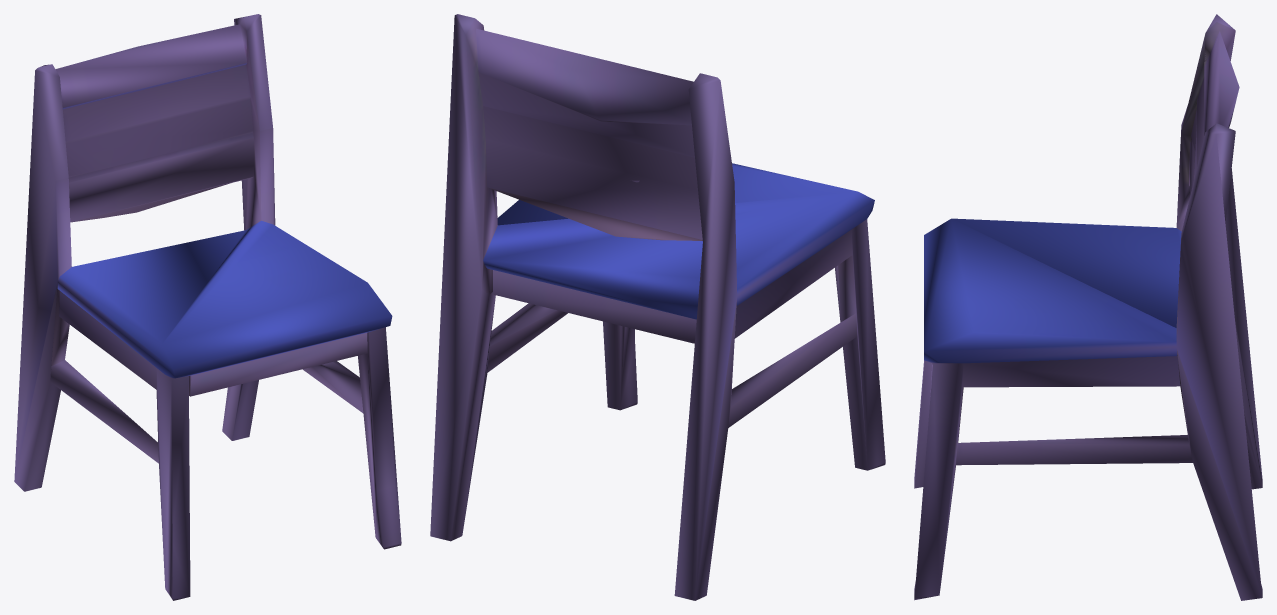
The model's file is model.progressive.glb.
3 renders of one model, left to right at view 1: azimuth 30°, elevation 25°; view 2: azimuth 150°, elevation 25°; view 3: azimuth 270°, elevation 25°, orthographic. The views are drawn at different scales.
Parts seen in each view (by area): view 1: BreakRoomChair3; view 2: BreakRoomChair3; view 3: BreakRoomChair3.
Part boxes in pixels (box(x1,y1,x2,y2)): BreakRoomChair3: box(14, 14, 401, 600); BreakRoomChair3: box(430, 14, 885, 600); BreakRoomChair3: box(914, 14, 1262, 600).
Bounding box in the file's own units: 1.05 × 1.89 × 1.27.
Materials: 1 (1 with a texture image).
